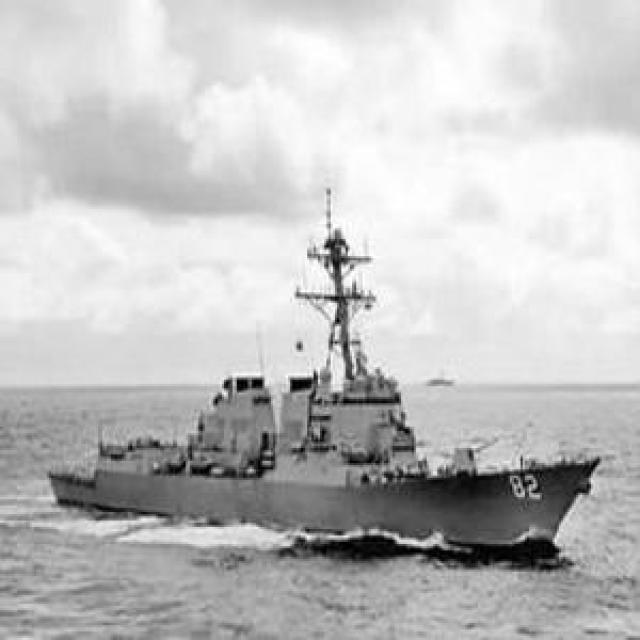navalvessels: (50, 184, 598, 552)
